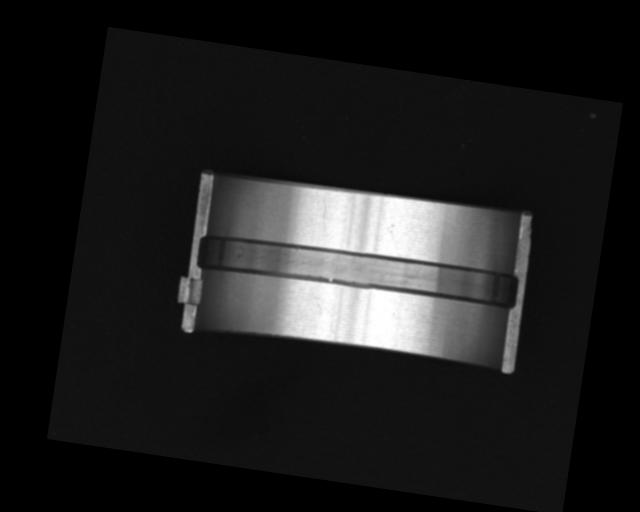gap: (197, 226, 522, 315)
nick: (318, 198, 331, 230)
